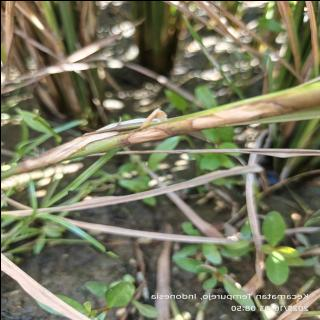Busuk-Pelepah: (82, 88, 320, 157)
